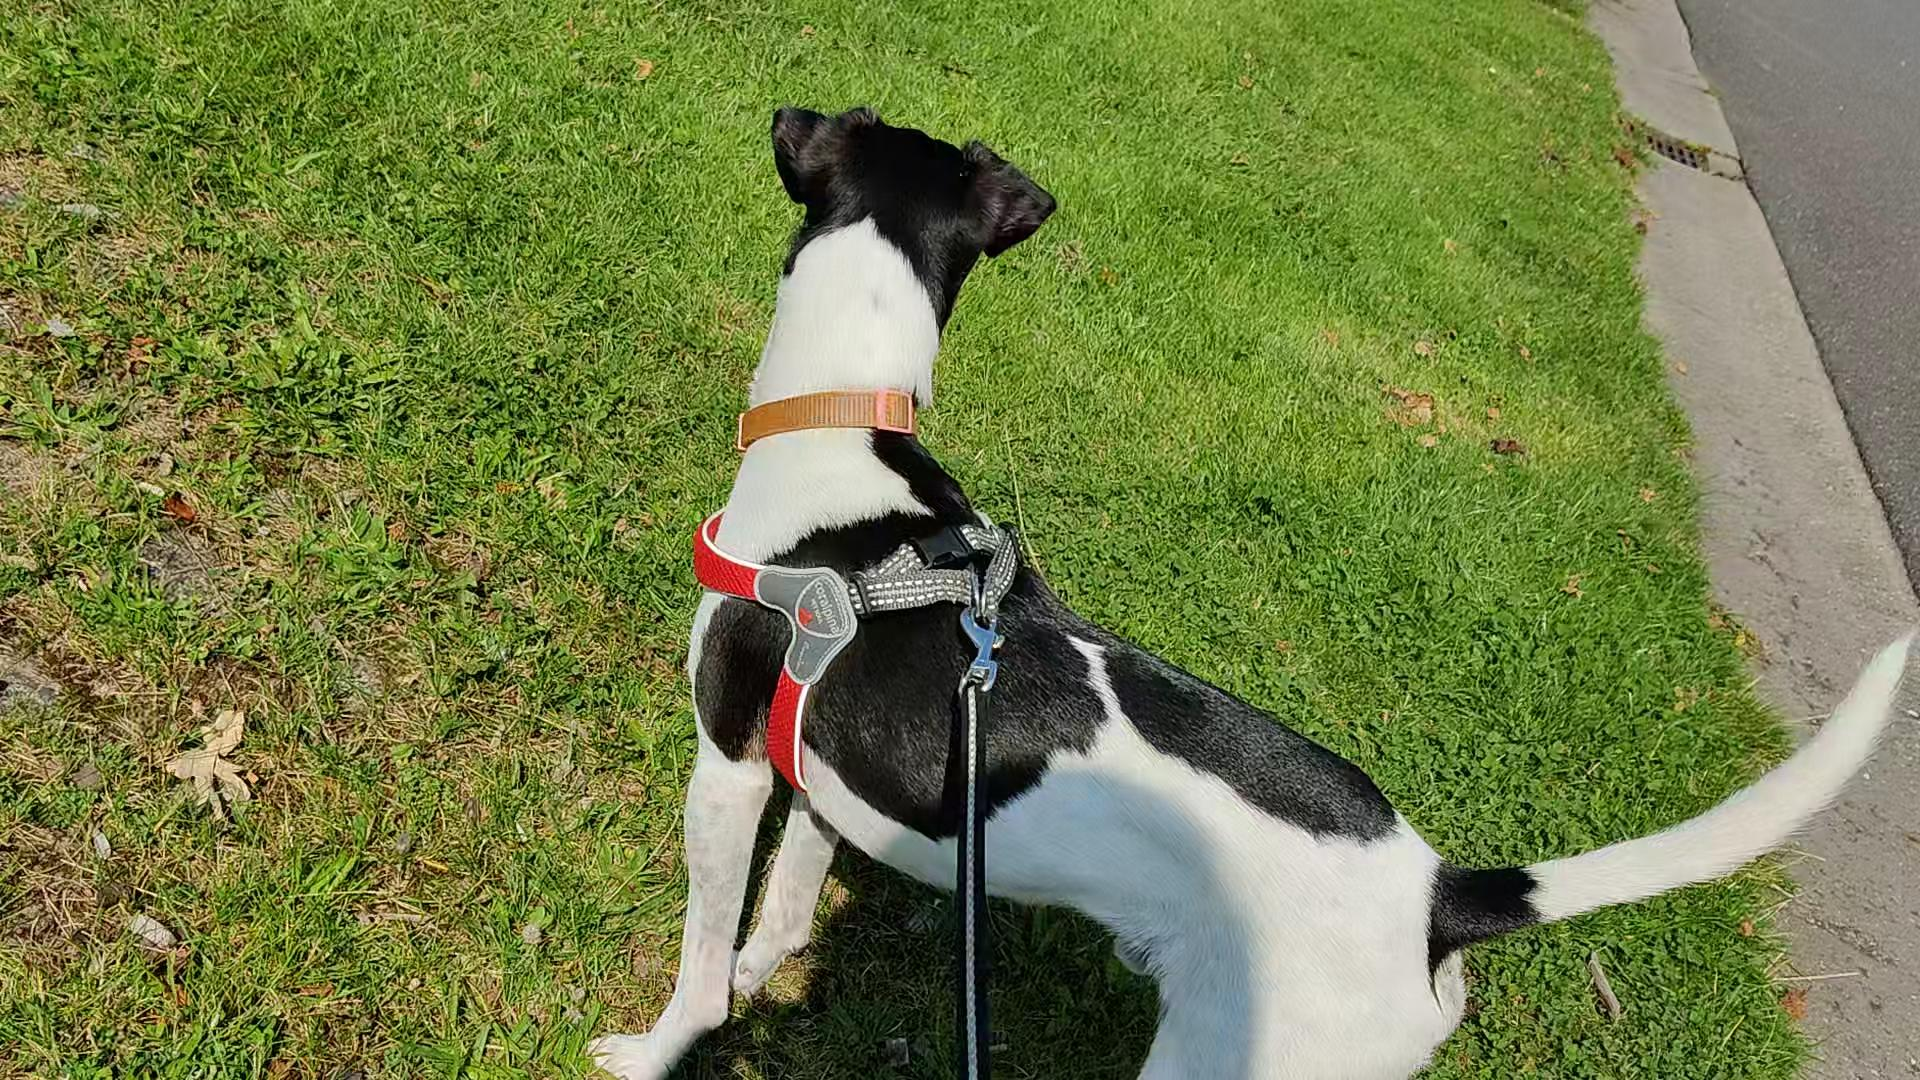Dog: (572, 80, 1911, 1079)
